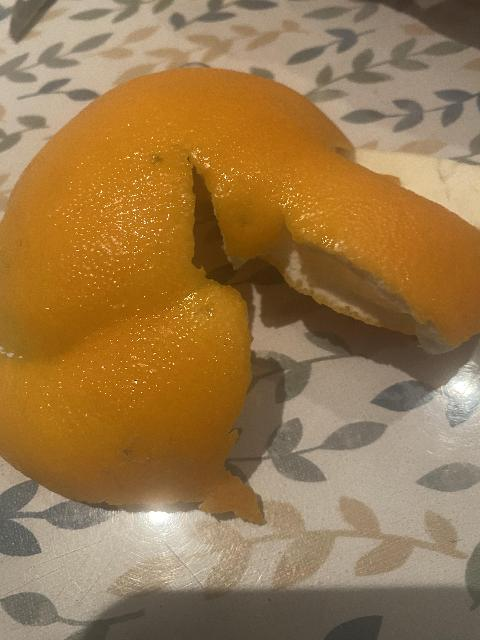Organik: (0, 62, 480, 521)
